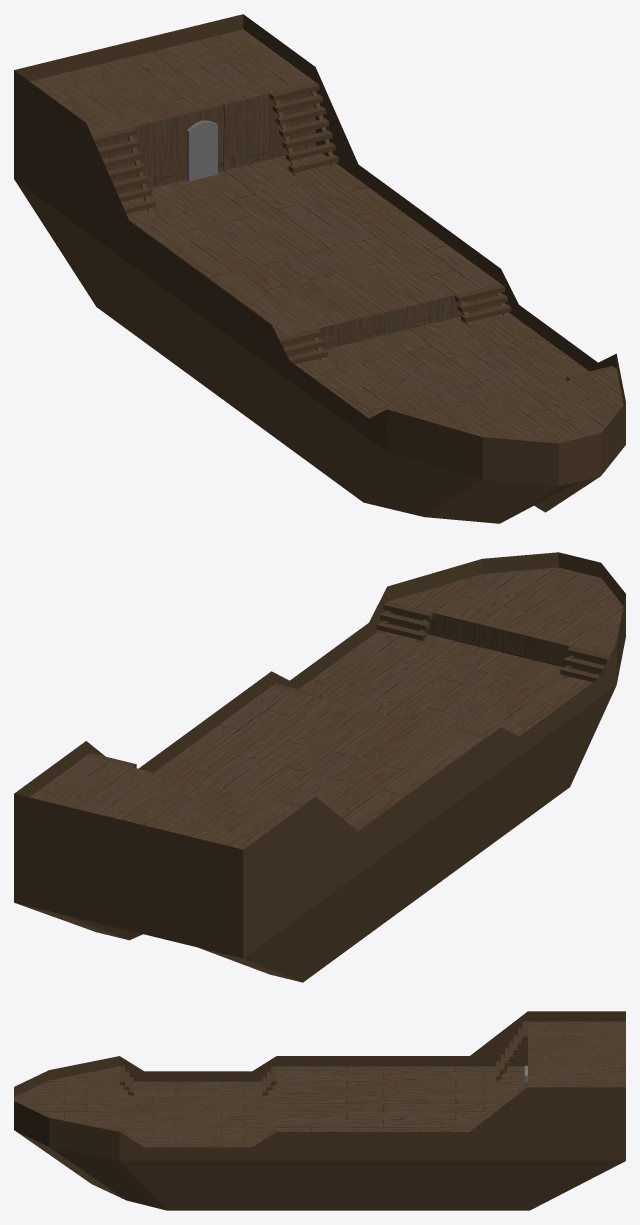
File: BateauLD (1).fbx
3 views of the same model, one above another, from view 1: azimuth 30°, elevation 25°; view 2: azimuth 150°, elevation 25°; view 3: azimuth 270°, elevation 25° (orthographic). The views are drawn at different scales.
Visible parts, largest first — view 1: BateauWithApplyMirror, EscalierArriere, EscalierMilieu, Porte; view 2: BateauWithApplyMirror, EscalierAvant; view 3: BateauWithApplyMirror, EscalierArriere, EscalierAvant, EscalierMilieu.
Boxes of the visible parts, <box> form: BateauWithApplyMirror: <box>14,14,625,523</box>; EscalierArriere: <box>92,82,338,213</box>; EscalierMilieu: <box>278,284,511,364</box>; Porte: <box>186,120,217,181</box>; BateauWithApplyMirror: <box>14,552,625,982</box>; EscalierAvant: <box>377,602,616,685</box>; BateauWithApplyMirror: <box>14,1011,625,1210</box>; EscalierArriere: <box>496,1021,527,1097</box>; EscalierAvant: <box>119,1066,133,1155</box>; EscalierMilieu: <box>262,1066,276,1140</box>.
Bounding box in the file's own units: 1583 × 1237 × 5390.
